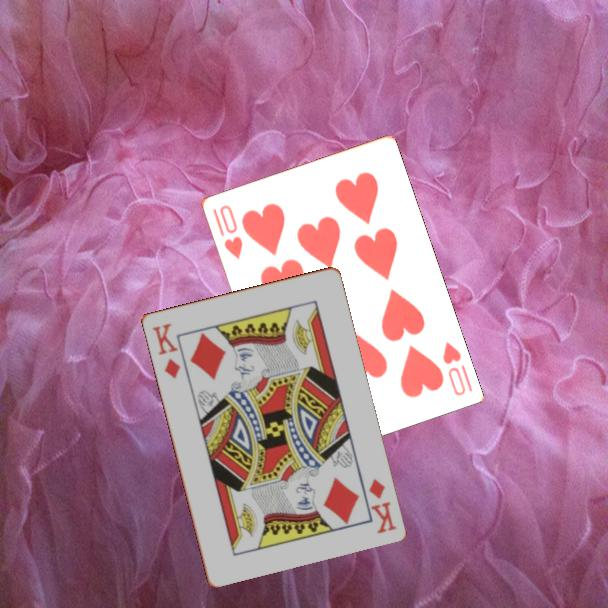d13: (149, 319, 183, 381), (365, 475, 399, 536)
h10: (209, 201, 245, 262), (439, 338, 475, 398)
